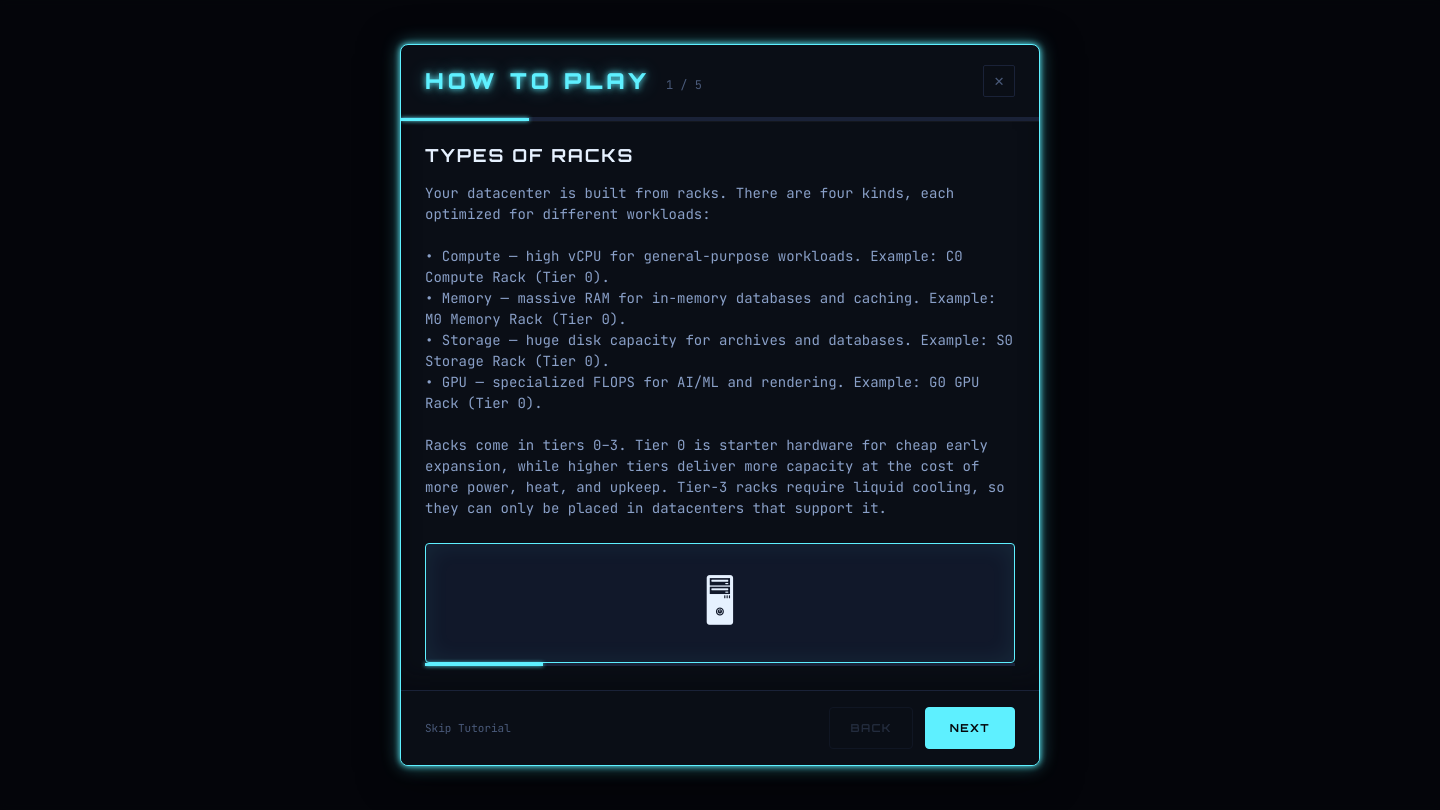
Test: TutorialModal › clicking Next advances to step 2
Click the button "Next".
click(970, 728)  # box x1=925 y1=706 x2=1015 y2=749
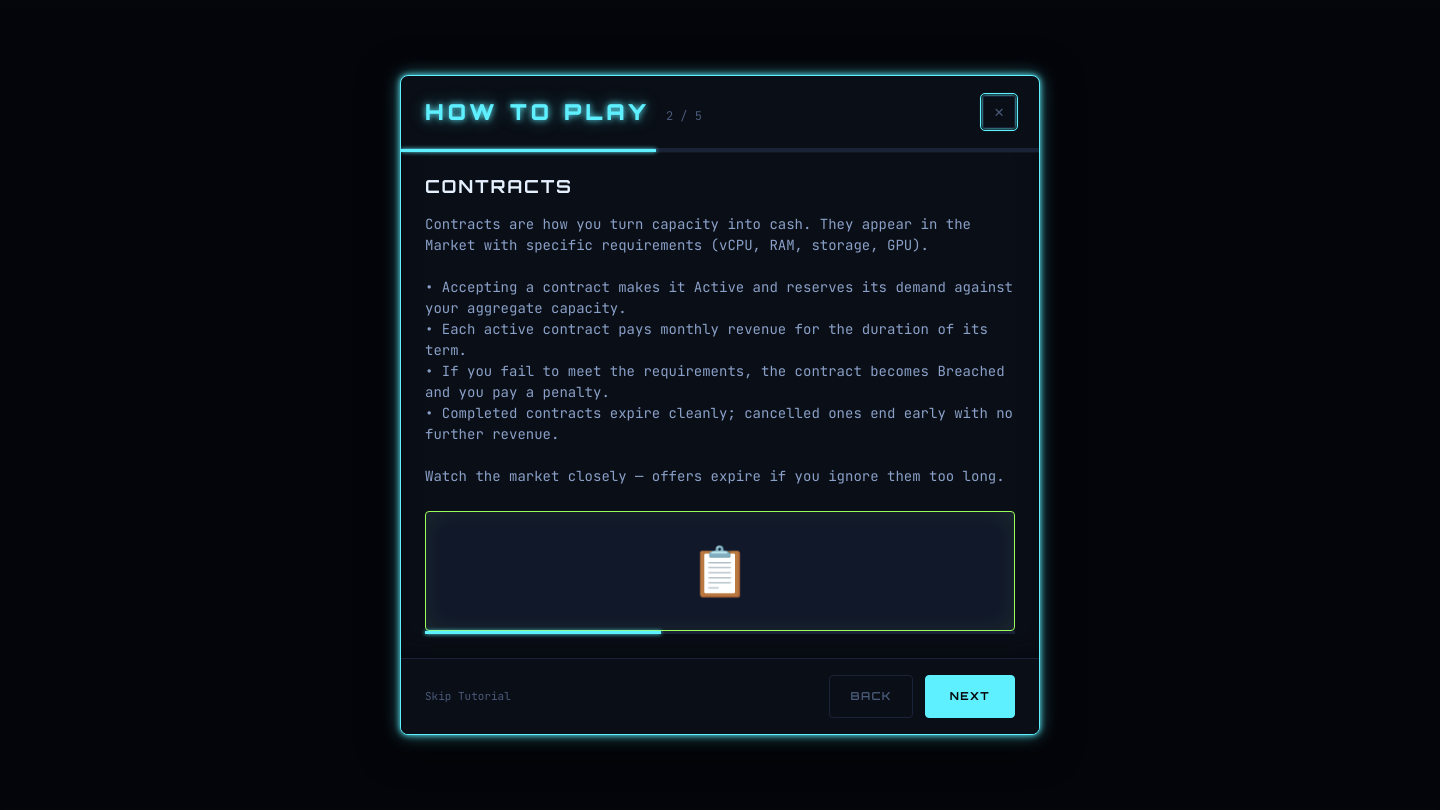
Check: the heading "Contracts" is shown, box x1=425 y1=176 x2=573 y2=198
Check: the text "2 / 5" is shown, box x1=666 y1=107 x2=702 y2=125
